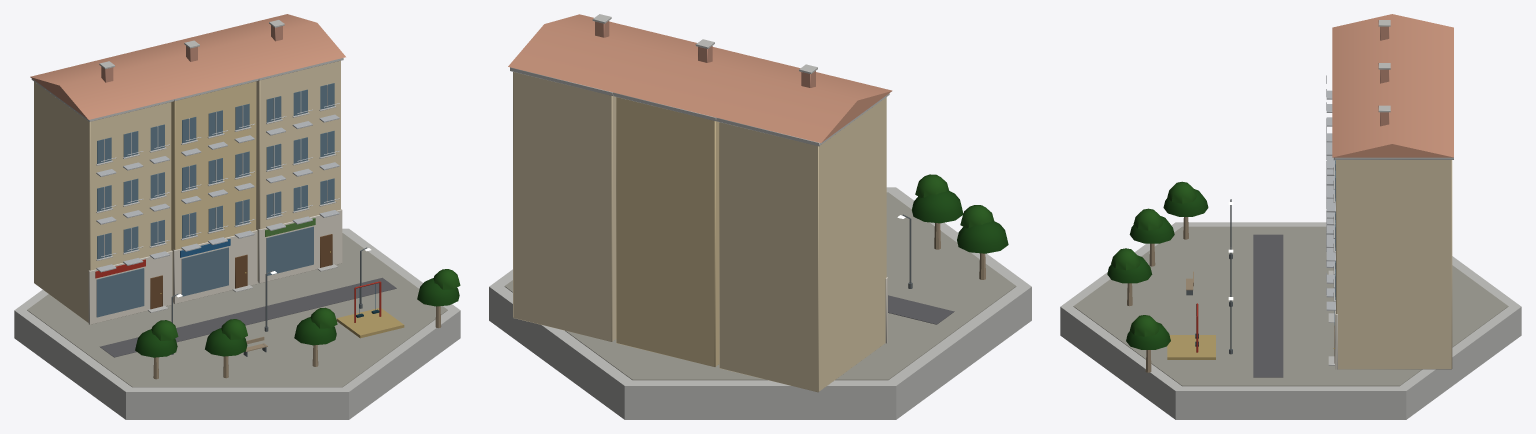
Rendered from housing_med.glb.
3 views of the same model, side by side, from view 1: azimuth 30°, elevation 25°; view 2: azimuth 150°, elevation 25°; view 3: azimuth 270°, elevation 25° (orthographic). The views are drawn at different scales.
Visible parts, largest first — view 1: plaster, pavers, wall_concrete, glass, roof_tile, stone, leaf, metal, asphalt, wood, paint, sandbag (+2 smaller); view 2: plaster, wall_concrete, roof_tile, pavers, leaf, asphalt, brick; view 3: pavers, plaster, wall_concrete, roof_tile, leaf, asphalt, metal, sandbag, wood.
Boxes of the visible parts, x1=… form: plaster: x1=34, y1=60, x2=340, y2=322; pavers: x1=27, y1=233, x2=447, y2=387; wall_concrete: x1=14, y1=20, x2=460, y2=419; glass: x1=96, y1=83, x2=334, y2=317; roof_tile: x1=30, y1=14, x2=345, y2=119; stone: x1=88, y1=209, x2=342, y2=324; leaf: x1=135, y1=269, x2=460, y2=357; metal: x1=96, y1=103, x2=339, y2=272; asphalt: x1=100, y1=277, x2=396, y2=357; wood: x1=150, y1=234, x2=441, y2=379; paint: x1=95, y1=218, x2=381, y2=322; sandbag: x1=336, y1=308, x2=404, y2=338; plaster: x1=513, y1=72, x2=886, y2=392; wall_concrete: x1=489, y1=14, x2=1031, y2=419; roof_tile: x1=508, y1=14, x2=892, y2=142; pavers: x1=504, y1=192, x2=1016, y2=380; leaf: x1=912, y1=174, x2=1008, y2=253; asphalt: x1=888, y1=295, x2=954, y2=324; brick: x1=595, y1=21, x2=815, y2=87; pavers: x1=1073, y1=226, x2=1508, y2=386; plaster: x1=1336, y1=160, x2=1452, y2=369; wall_concrete: x1=1060, y1=20, x2=1521, y2=419; roof_tile: x1=1332, y1=14, x2=1453, y2=157; leaf: x1=1107, y1=181, x2=1208, y2=349; asphalt: x1=1253, y1=234, x2=1283, y2=377; metal: x1=1326, y1=75, x2=1335, y2=310; sandbag: x1=1167, y1=335, x2=1215, y2=359; wood: x1=1127, y1=217, x2=1334, y2=372.
Size of the model in its own units: 21.3 by 15.9 by 24.6.
